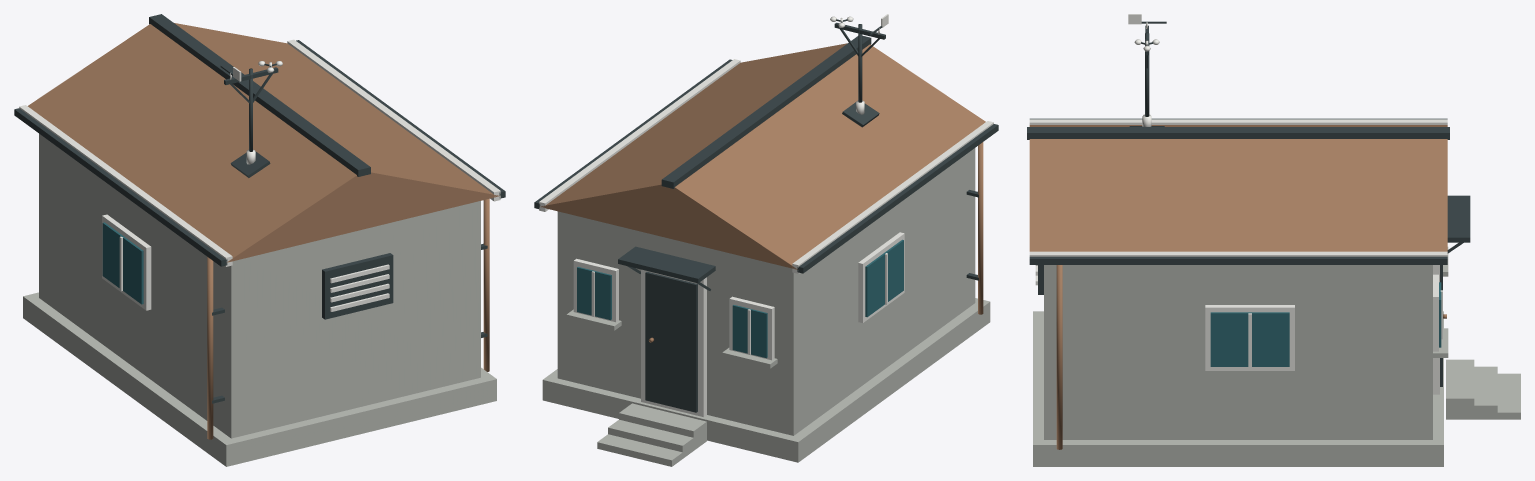
The model's file is ENV_CoastShed_LOD1.fbx.
3 views of the same model, side by side, from view 1: azimuth 30°, elevation 25°; view 2: azimuth 150°, elevation 25°; view 3: azimuth 270°, elevation 25° (orthographic). The views are drawn at different scales.
Visible parts, largest first — view 1: ENV_CoastShed_Root_Visual; view 2: ENV_CoastShed_Root_Visual; view 3: ENV_CoastShed_Root_Visual.
Boxes of the visible parts, <box> form: ENV_CoastShed_Root_Visual: <box>14,14,505,466</box>; ENV_CoastShed_Root_Visual: <box>534,22,998,466</box>; ENV_CoastShed_Root_Visual: <box>1027,25,1520,466</box>.
Size of the model in its own units: 341 by 396 by 508.
